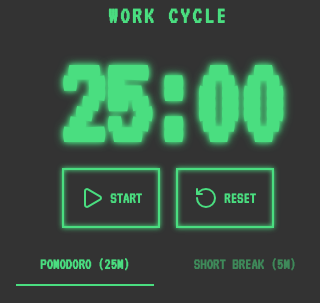
Timer › pauses when PAUSE is clicked
Click the button with test id "timer-toggle": coordinates (111, 198) [62,168,160,228]
Wait 2000 ms
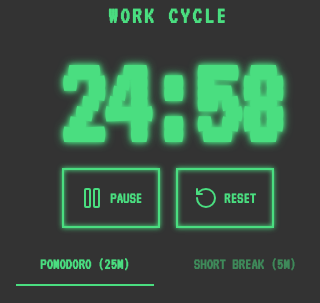
expect the text with test id "timer-display" reads "24:58": met, box [56,40,280,168]
Click the button with test id "timer-toggle": coordinates (111, 198) [62,168,160,228]
Wait 5000 ms
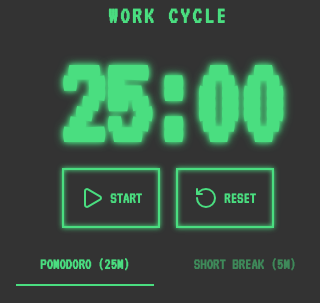
expect the text with test id "timer-display" reads "25:00": met, box [56,40,280,168]
